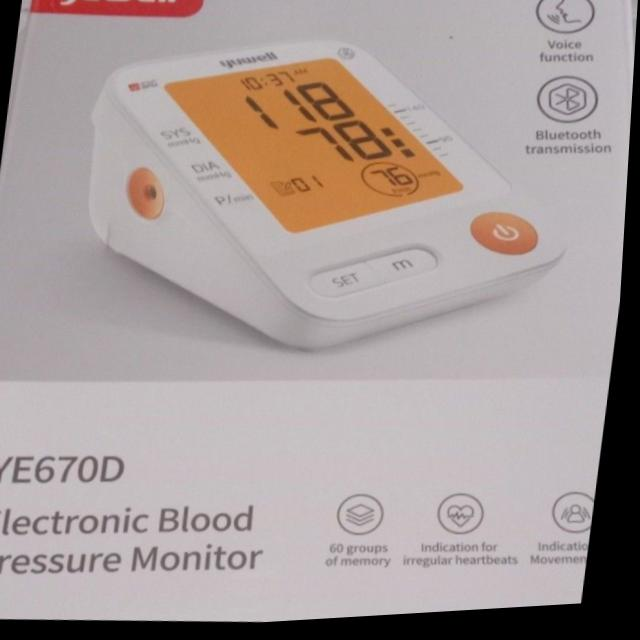dia: (290, 111, 400, 182)
pul: (364, 158, 425, 207)
ssd: (158, 0, 467, 300)
sys: (236, 66, 363, 146)
